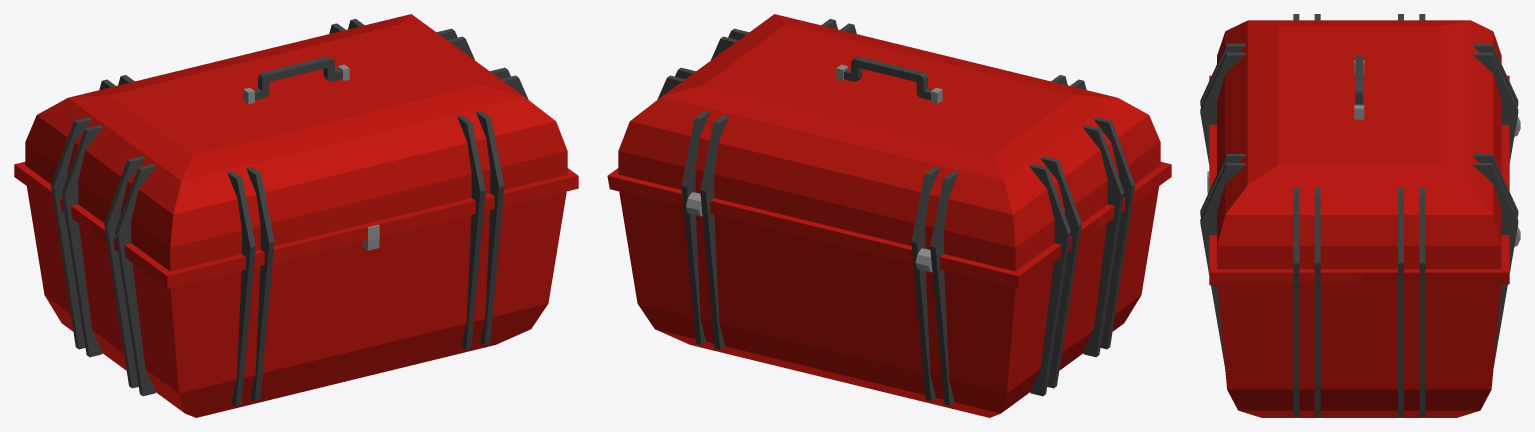
The model's file is KitDeEmergencia.FBX.
3 views of the same model, side by side, from view 1: azimuth 30°, elevation 25°; view 2: azimuth 150°, elevation 25°; view 3: azimuth 270°, elevation 25° (orthographic).
Parts seen in each view (by area): view 1: KitDeEmergencia; view 2: KitDeEmergencia; view 3: KitDeEmergencia.
Boxes of the visible parts, x1,y1,x2,y2 form: KitDeEmergencia: (14,14,578,417); KitDeEmergencia: (607,14,1171,417); KitDeEmergencia: (1200,14,1520,417).
Bounding box in the file's own units: 119 × 76.49 × 79.15.
